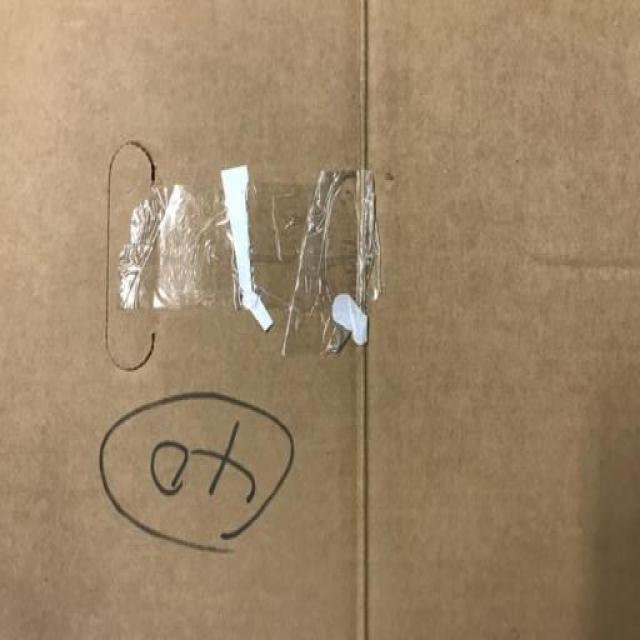cardboard: (3, 2, 640, 640)
